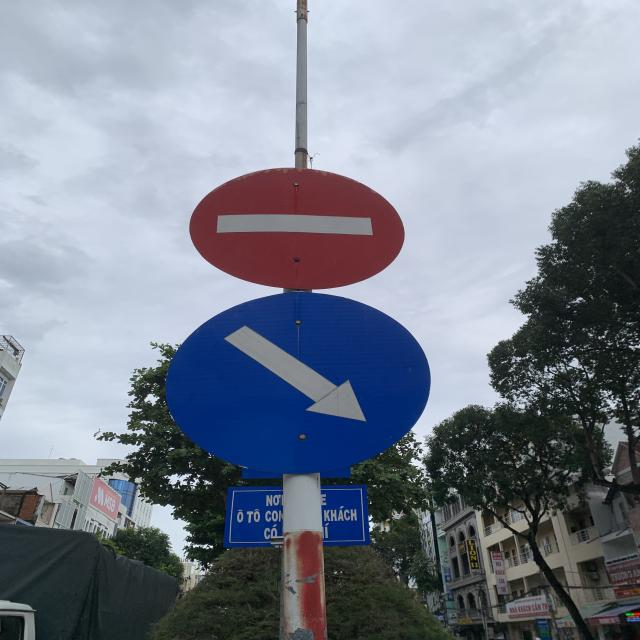Cam_Di_Nguoc_Chieu: (188, 167, 405, 291)
Chi_Huong_Di_Phai: (165, 291, 433, 482)
